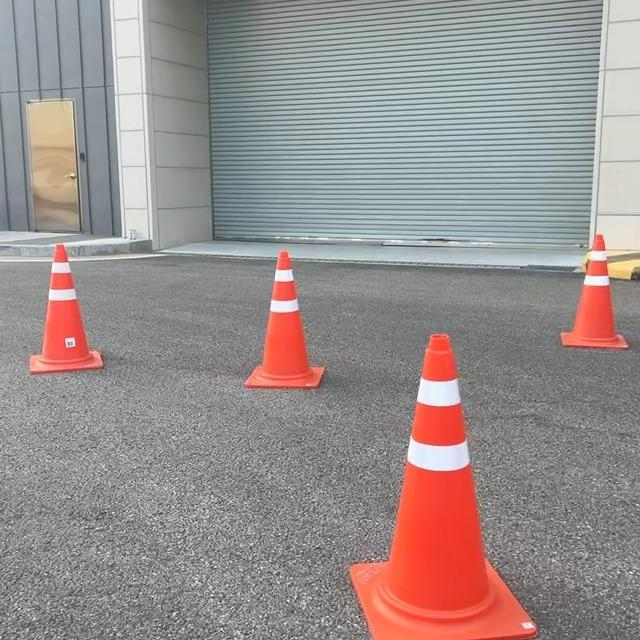fallen_object: (313, 300, 525, 617), (15, 222, 145, 428), (202, 243, 346, 413), (527, 206, 640, 369)
